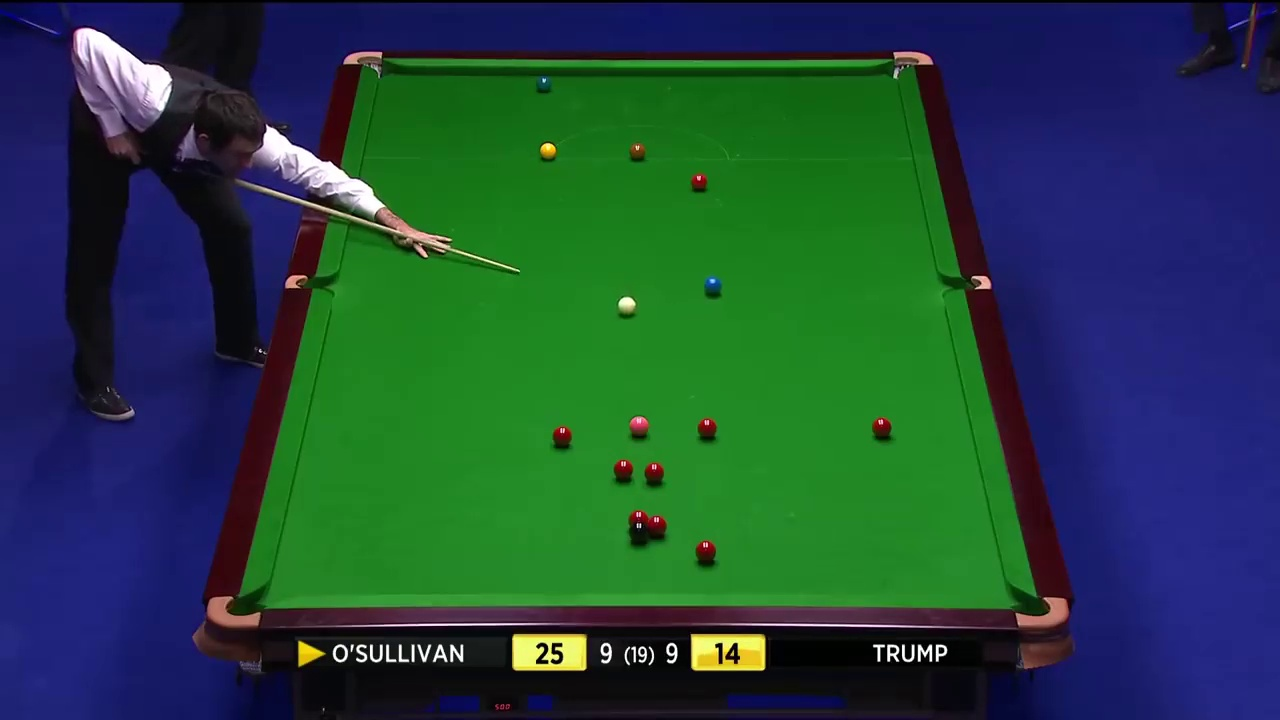ball: (550, 423, 575, 447), (625, 413, 650, 436), (609, 459, 634, 481), (694, 539, 716, 564), (613, 293, 640, 313), (869, 418, 893, 439), (696, 417, 716, 440), (628, 519, 647, 542), (537, 142, 558, 161), (689, 171, 709, 190), (643, 461, 663, 479), (630, 139, 647, 158), (705, 277, 721, 296), (535, 75, 549, 91)
